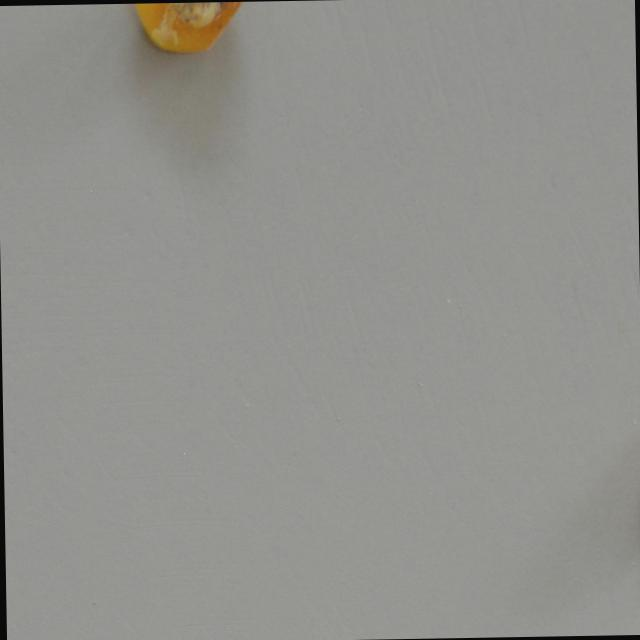dañado: (127, 1, 255, 59)
